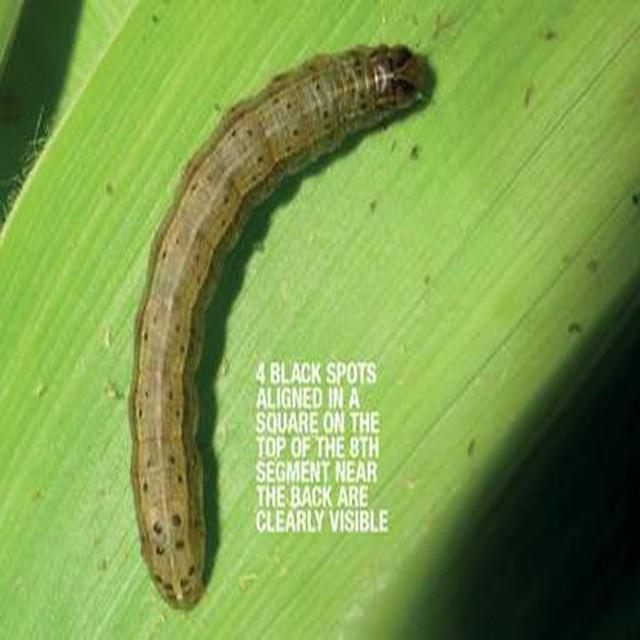gusano_cogollero: (126, 38, 437, 619)
